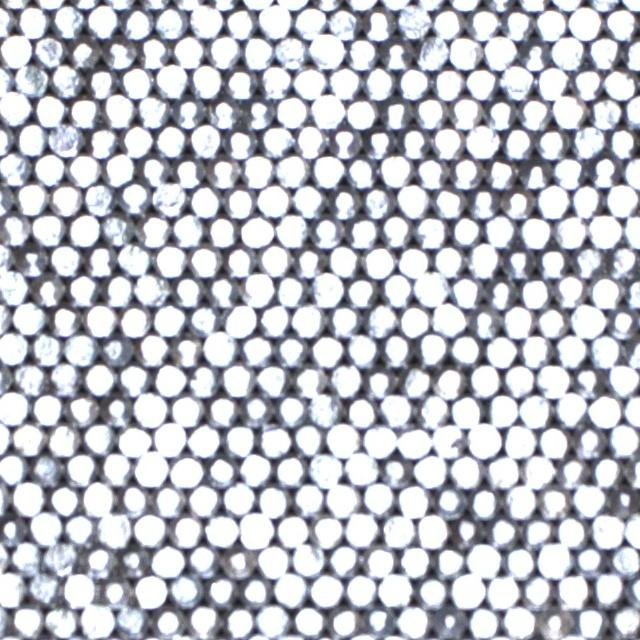tool: (97, 510, 132, 546), (151, 420, 186, 456), (570, 482, 606, 517), (169, 453, 204, 488), (396, 483, 431, 518), (62, 572, 97, 607), (79, 602, 114, 637), (466, 422, 501, 457), (413, 453, 448, 488), (133, 451, 168, 486), (556, 572, 590, 608), (502, 422, 536, 458), (204, 512, 238, 547), (116, 422, 150, 457), (291, 482, 325, 517), (520, 453, 554, 488), (14, 180, 48, 215), (570, 123, 605, 157), (570, 302, 604, 337), (396, 603, 430, 638), (116, 482, 151, 516), (256, 483, 290, 518), (221, 480, 255, 515), (293, 122, 328, 156), (396, 4, 431, 38), (325, 481, 359, 516), (151, 482, 185, 517), (449, 454, 484, 488), (291, 602, 326, 636), (152, 242, 186, 277), (80, 481, 114, 516), (605, 244, 639, 279), (344, 511, 379, 545), (274, 332, 308, 367), (13, 120, 48, 154), (257, 2, 291, 37), (117, 180, 151, 215), (293, 362, 327, 397), (378, 572, 412, 607), (536, 484, 570, 519), (450, 572, 484, 607), (326, 421, 360, 456), (432, 605, 467, 639), (12, 359, 46, 394), (308, 572, 342, 607), (238, 512, 272, 547), (534, 64, 569, 98), (31, 273, 66, 307), (44, 540, 78, 575), (31, 92, 66, 126), (273, 571, 307, 606), (362, 423, 397, 457), (538, 605, 572, 640), (361, 480, 395, 515), (450, 393, 484, 428), (255, 362, 289, 396), (118, 303, 152, 337), (153, 362, 187, 396), (152, 180, 186, 214), (605, 182, 639, 216), (309, 33, 343, 67), (381, 512, 415, 546), (221, 362, 255, 396), (291, 302, 325, 336), (431, 243, 465, 277), (64, 332, 98, 366), (132, 512, 166, 546), (66, 152, 100, 186), (344, 450, 378, 484), (275, 152, 309, 186), (574, 604, 608, 638), (100, 211, 134, 245), (30, 211, 64, 245), (552, 154, 586, 188), (14, 4, 48, 38), (554, 332, 588, 366), (153, 302, 187, 336), (48, 181, 82, 215), (255, 602, 289, 636), (12, 300, 46, 334), (223, 302, 257, 336), (44, 602, 78, 636), (203, 330, 237, 364), (503, 604, 537, 638), (292, 5, 326, 39), (12, 480, 46, 514), (309, 512, 343, 546), (204, 573, 238, 607), (520, 574, 554, 608), (396, 182, 430, 216), (572, 424, 606, 458), (604, 5, 638, 39), (275, 513, 309, 547), (586, 34, 620, 68), (344, 332, 378, 366), (101, 271, 135, 305), (430, 422, 464, 456), (116, 361, 150, 395), (467, 485, 501, 519), (100, 332, 134, 366), (46, 422, 80, 456), (66, 211, 100, 245), (169, 572, 203, 606), (206, 97, 240, 131), (308, 451, 342, 485), (379, 454, 413, 488), (535, 245, 569, 279), (256, 422, 290, 456), (518, 333, 552, 367), (484, 574, 518, 608), (48, 122, 82, 156), (569, 183, 603, 217), (467, 362, 501, 396), (291, 421, 325, 455), (570, 244, 604, 278), (205, 453, 239, 487), (433, 484, 467, 518), (415, 513, 449, 547), (379, 392, 413, 426), (169, 512, 203, 546), (486, 454, 520, 488), (327, 542, 361, 576), (568, 4, 602, 38), (82, 182, 116, 216), (291, 182, 325, 216), (363, 303, 397, 337), (553, 214, 587, 248), (518, 214, 552, 248), (10, 602, 44, 636), (274, 212, 308, 246), (116, 602, 150, 636), (551, 94, 585, 128), (587, 213, 621, 247), (308, 390, 342, 424), (239, 213, 273, 247), (27, 570, 61, 604), (132, 391, 166, 425), (415, 574, 449, 608), (257, 242, 291, 276), (189, 62, 223, 96), (553, 391, 587, 425), (518, 393, 552, 427), (590, 513, 624, 547), (292, 64, 326, 98), (310, 272, 344, 306), (345, 393, 379, 427), (67, 34, 101, 68), (310, 214, 344, 248), (310, 94, 344, 128), (414, 36, 448, 70), (134, 272, 168, 306), (85, 2, 119, 36), (414, 272, 448, 306), (588, 274, 622, 308), (117, 241, 151, 275), (587, 393, 621, 427), (132, 572, 166, 606), (398, 542, 432, 576), (9, 540, 43, 574), (274, 392, 308, 426), (136, 213, 170, 247), (499, 65, 533, 99), (115, 544, 149, 578), (186, 543, 220, 577), (361, 602, 395, 636), (503, 483, 536, 518), (397, 423, 430, 458), (240, 332, 273, 367), (187, 422, 220, 457), (100, 574, 133, 609), (537, 423, 570, 458), (150, 544, 185, 577), (187, 362, 220, 397), (311, 153, 344, 188), (186, 482, 219, 517), (570, 362, 603, 397), (483, 34, 516, 68), (257, 182, 290, 216), (329, 362, 362, 396), (607, 362, 640, 396), (398, 303, 431, 337), (536, 362, 569, 396), (432, 301, 465, 335), (51, 2, 84, 36), (102, 152, 135, 186), (275, 34, 308, 68), (154, 123, 187, 157), (431, 124, 464, 158), (552, 34, 585, 68), (503, 362, 536, 396), (67, 94, 100, 128), (49, 360, 82, 394), (223, 604, 256, 638), (555, 514, 588, 548), (328, 304, 361, 338), (328, 604, 361, 638), (29, 509, 62, 543), (380, 332, 413, 366), (466, 124, 499, 158), (448, 35, 482, 68), (501, 126, 534, 160), (449, 156, 482, 190), (345, 273, 378, 307), (483, 96, 516, 130), (172, 34, 206, 67), (274, 452, 307, 486), (380, 271, 413, 305), (467, 605, 501, 638), (535, 126, 568, 160), (258, 303, 291, 337), (330, 125, 363, 159), (449, 94, 482, 128), (169, 333, 202, 367), (606, 125, 639, 159), (102, 92, 135, 126), (241, 34, 274, 68), (240, 272, 273, 306), (154, 63, 188, 96), (153, 605, 186, 639), (344, 572, 377, 606), (556, 456, 589, 490), (607, 422, 640, 456), (29, 332, 62, 366), (256, 543, 290, 576), (431, 66, 465, 99), (239, 452, 272, 486), (15, 244, 49, 277), (275, 93, 308, 127), (432, 365, 466, 398), (449, 332, 482, 366), (32, 33, 66, 66), (310, 334, 343, 368), (224, 126, 257, 160), (12, 420, 45, 454), (553, 273, 586, 307), (189, 123, 222, 157), (328, 186, 361, 220), (449, 274, 483, 307), (187, 605, 220, 639), (206, 273, 239, 307), (15, 61, 48, 95), (570, 66, 603, 100), (484, 156, 517, 190), (172, 94, 205, 128), (291, 541, 325, 574), (520, 514, 554, 547), (81, 421, 115, 454), (259, 122, 292, 156), (171, 213, 205, 246), (361, 244, 395, 277), (398, 364, 432, 397), (83, 302, 116, 336), (517, 95, 550, 129), (484, 275, 517, 309), (103, 36, 137, 69), (485, 514, 518, 548), (465, 66, 498, 100), (32, 151, 65, 185), (586, 96, 620, 129), (63, 511, 96, 545), (467, 542, 500, 576), (588, 334, 621, 368), (65, 392, 98, 426), (415, 330, 448, 364), (537, 542, 570, 576), (220, 545, 253, 579), (485, 392, 518, 426), (432, 544, 465, 578), (169, 392, 203, 425), (415, 155, 448, 189), (239, 392, 272, 426), (136, 332, 169, 366), (503, 544, 536, 578), (572, 542, 606, 575), (414, 214, 447, 248), (362, 543, 396, 576), (187, 303, 220, 337), (590, 454, 623, 488), (536, 183, 569, 216), (328, 5, 361, 38), (120, 123, 153, 156), (241, 154, 274, 187), (207, 33, 240, 66), (154, 5, 187, 38), (432, 184, 465, 217), (64, 451, 97, 484), (431, 6, 464, 39), (82, 361, 115, 394), (484, 334, 517, 367), (397, 244, 430, 277), (345, 156, 378, 189), (66, 272, 99, 305), (223, 185, 256, 218), (397, 126, 430, 159), (345, 95, 378, 128), (275, 274, 308, 307), (483, 213, 516, 246), (224, 6, 257, 39), (30, 452, 63, 485), (292, 245, 325, 278), (120, 6, 153, 39), (189, 4, 222, 37), (361, 185, 394, 218), (222, 423, 255, 456), (380, 37, 413, 70), (466, 243, 499, 276), (466, 6, 499, 39), (31, 391, 64, 424), (606, 307, 639, 340), (346, 215, 379, 248), (51, 63, 84, 96), (223, 244, 256, 277), (205, 393, 238, 426), (328, 65, 361, 98), (258, 64, 291, 97), (120, 64, 153, 97), (607, 483, 640, 516), (466, 185, 499, 218), (82, 544, 115, 577), (224, 66, 257, 99), (451, 515, 484, 548), (517, 38, 550, 71), (362, 7, 395, 40), (362, 66, 395, 99), (414, 95, 447, 128), (85, 125, 118, 158), (380, 152, 412, 186), (0, 32, 32, 66), (536, 304, 568, 338), (100, 450, 132, 484), (380, 213, 412, 247), (346, 36, 380, 68), (208, 155, 240, 189), (380, 96, 412, 130), (327, 242, 359, 276), (502, 245, 534, 279), (588, 154, 620, 188), (82, 244, 116, 276), (416, 392, 448, 426), (136, 94, 170, 126), (138, 34, 170, 68), (363, 366, 397, 398), (100, 394, 132, 428), (364, 126, 396, 160), (48, 483, 80, 516), (502, 304, 534, 337), (519, 276, 552, 308), (534, 6, 567, 38), (501, 8, 534, 40), (502, 186, 534, 219), (206, 214, 238, 247), (172, 274, 204, 307), (172, 156, 205, 188), (188, 244, 221, 276), (592, 571, 624, 604), (449, 214, 482, 246), (604, 66, 636, 99), (188, 184, 221, 216), (397, 65, 429, 98), (242, 96, 274, 129), (240, 574, 272, 607), (518, 158, 551, 190), (85, 65, 117, 98), (0, 211, 31, 245), (609, 604, 640, 638), (609, 542, 640, 576), (49, 304, 81, 336), (468, 306, 500, 338), (138, 154, 170, 186), (49, 242, 81, 274), (0, 151, 30, 185), (0, 89, 30, 123), (0, 389, 29, 424), (0, 330, 29, 364), (0, 270, 29, 304), (0, 450, 28, 484), (0, 512, 28, 545), (0, 570, 25, 606), (621, 155, 640, 189), (622, 393, 640, 427), (622, 36, 640, 69), (622, 335, 640, 368), (623, 213, 640, 247), (622, 94, 640, 126), (623, 275, 640, 308), (624, 455, 640, 488), (625, 512, 640, 547), (0, 4, 14, 38), (0, 182, 14, 216), (0, 121, 13, 155), (0, 62, 13, 94), (0, 362, 13, 394)
